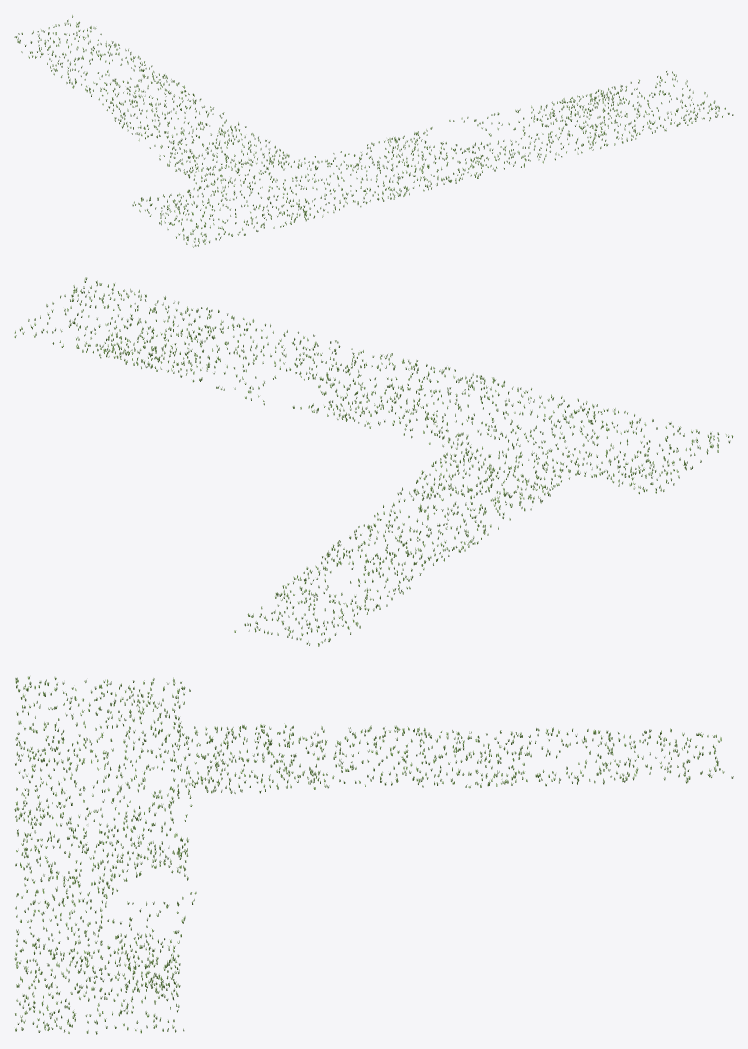
File: grass_field.glb
3 views of the same model, one above another, from view 1: azimuth 30°, elevation 25°; view 2: azimuth 150°, elevation 25°; view 3: azimuth 270°, elevation 25° (orthographic). The views are drawn at different scales.
Visible parts, largest first — view 1: grass_field; view 2: grass_field; view 3: grass_field.
Part boxes in pixels (box(x1,y1,x2,y2)): grass_field: box(14, 15, 733, 247); grass_field: box(14, 277, 732, 646); grass_field: box(14, 676, 733, 1034).
Size of the model in its own units: 82.13 by 1.05 by 70.28.
